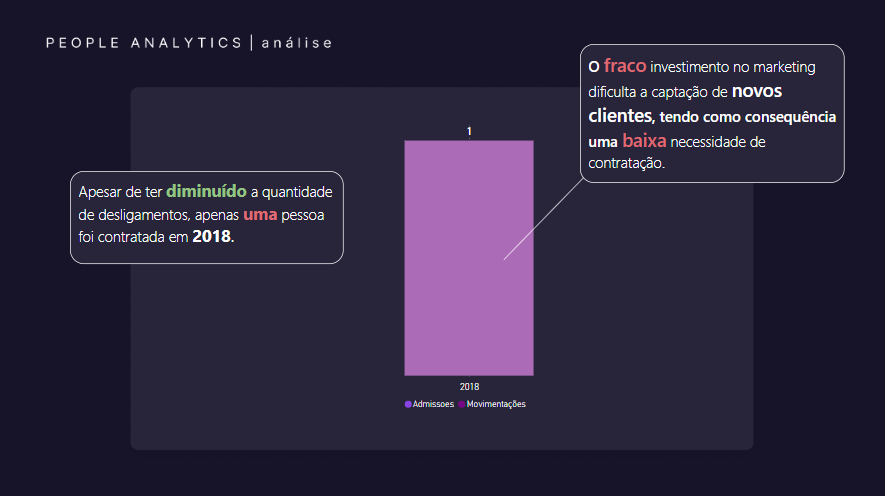

The page's visual inventory and layout, read from the dashboard file:
{"tool":"powerbi","page":{"name":"Apresentação3","canvas":[1280,720],"ordinal":4},"visuals":[{"type":"textbox","box":[837.8,66.6,381,200.2],"z":0,"group":"g1"},{"type":"lineClusteredColumnComboChart","fields":{"Y":["Medidas.Admissoes"],"Category":["Tb_contratacoes.DataContratacao.Variation.Hierarquia de datas.Ano"],"Y2":["Medidas.Movimentações"]},"box":[157.8,166.7,1032.6,437.4],"z":0},{"type":"textbox","box":[103.7,249.1,394,133.9],"z":0,"group":"g2"},{"type":"group","id":"g1","title":"Grupo 1","box":[711.4,66.6,507.4,320.8],"z":1000},{"type":"basicShape","box":[711.4,249.9,148.6,137.6],"z":1000,"group":"g1"},{"type":"group","id":"g2","title":"Grupo 2","box":[103.7,249.1,394.6,133.9],"z":2000}]}

Visuals, with their boxes in screenshot pixels (x1, y1, x2, y2), scaled from the page's 1280x720 canvas onto the 885x496 screenshot:
textbox: pyautogui.locateOnScreen(579, 46, 843, 184)
lineClusteredColumnComboChart - Medidas.Admissoes x Tb_contratacoes.DataContratacao.Variation.Hierarquia de datas.Ano: pyautogui.locateOnScreen(109, 115, 823, 416)
textbox: pyautogui.locateOnScreen(72, 172, 344, 264)
"Grupo 1" group: pyautogui.locateOnScreen(492, 46, 843, 267)
basicShape: pyautogui.locateOnScreen(492, 172, 595, 267)
"Grupo 2" group: pyautogui.locateOnScreen(72, 172, 345, 264)
